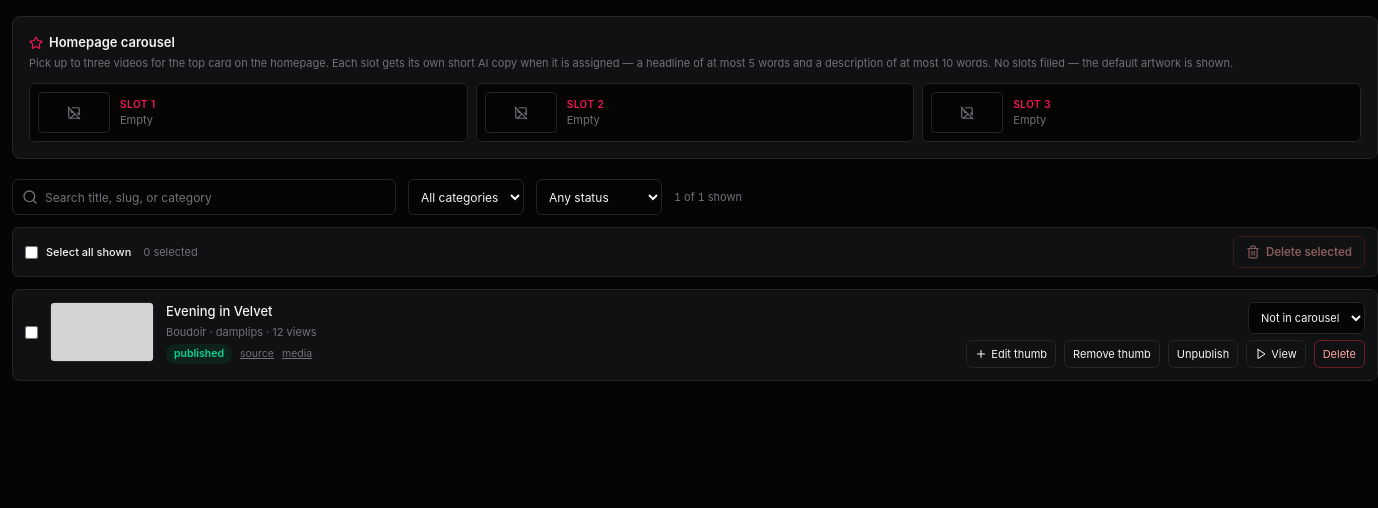
VideoManager — categories, select all, carousel, bulk actions › reports the AI carousel copy that came back with the slot
Select "Slot 3" in the dropdown named "Homepage carousel slot for Evening in Velvet" at (1306, 318), box [1248,302,1365,334]
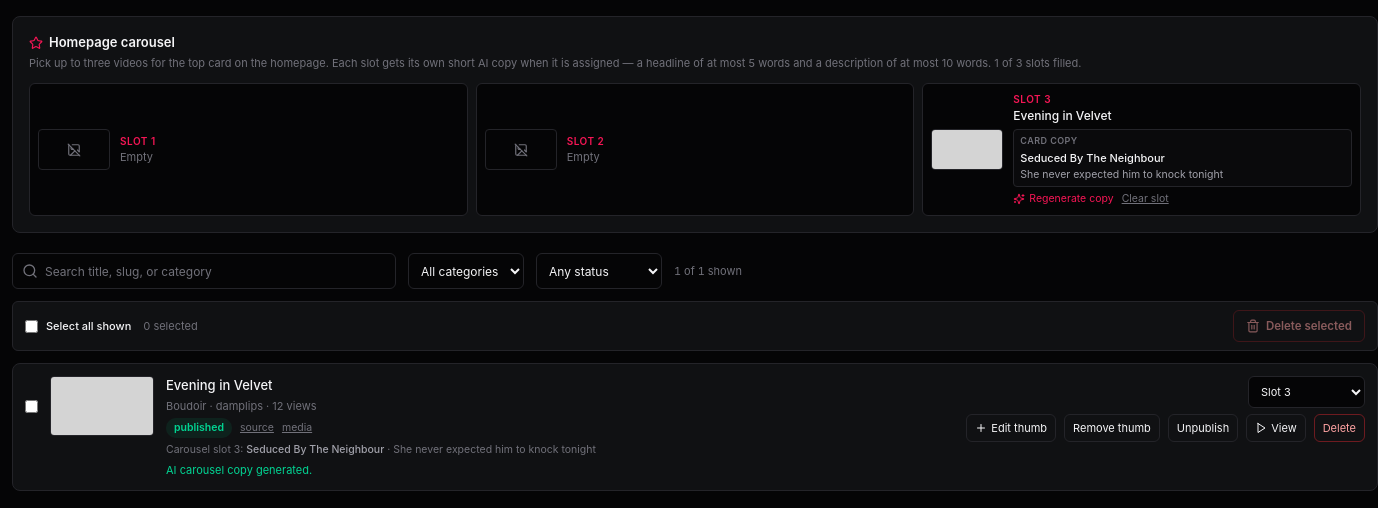
expect the text "AI carousel copy generated." is shown: met, box [166,463,312,477]
expect the text "Seduced By The Neighbour" is shown 2 times: met, box [1020,150,1165,164]; [246,443,384,456]
